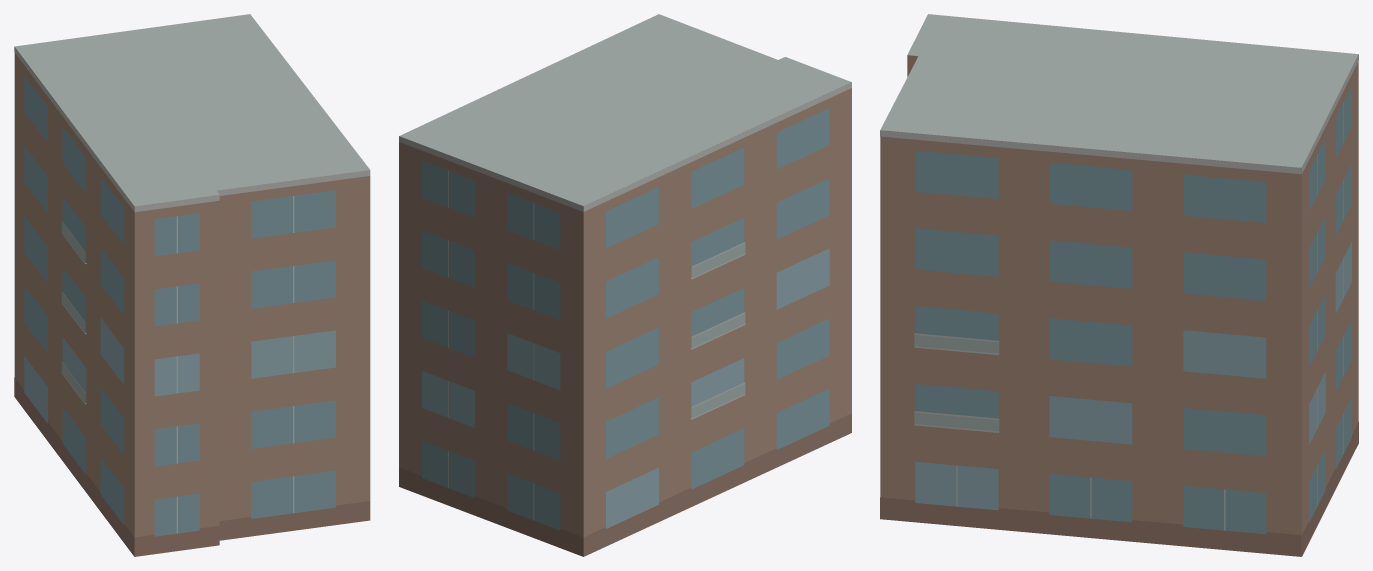
The model's file is survey-upis-32481096.glb.
The picture shows the model from 3 angles, left to right: view 1: azimuth 30°, elevation 25°; view 2: azimuth 150°, elevation 25°; view 3: azimuth 270°, elevation 25°; orthographic projection. The views are drawn at different scales.
Parts seen in each view (by area): view 1: survey-upis-32481096.tmp; view 2: survey-upis-32481096.tmp; view 3: survey-upis-32481096.tmp.
Boxes of the visible parts, x1,y1,x2,y2 form: survey-upis-32481096.tmp: (14, 14, 370, 556); survey-upis-32481096.tmp: (399, 14, 851, 556); survey-upis-32481096.tmp: (880, 14, 1358, 556).
Bounding box in the file's own units: 12.56 × 14.8 × 16.52.
